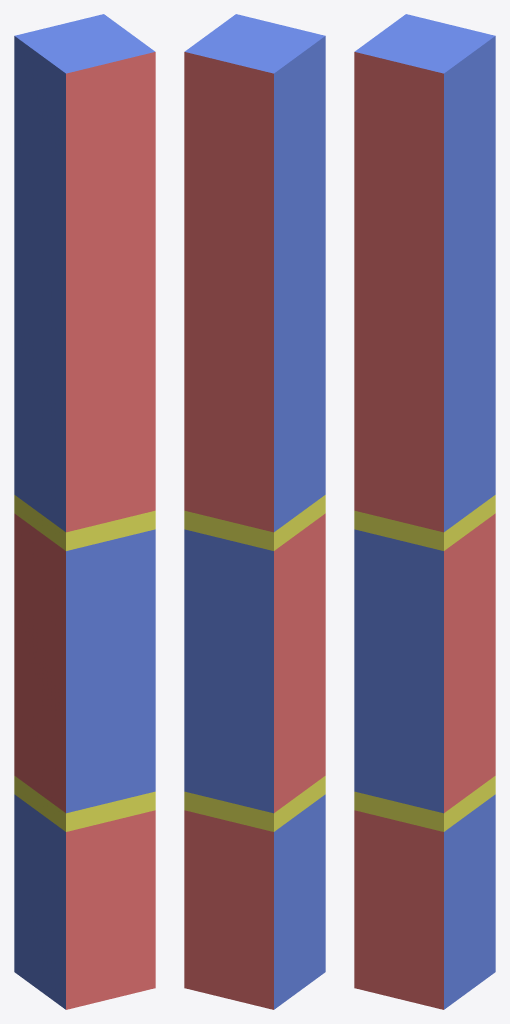
Rendered from with_hadamards_180.dae.
3 views of the same model, side by side, from view 1: azimuth 30°, elevation 25°; view 2: azimuth 150°, elevation 25°; view 3: azimuth 330°, elevation 25° (orthographic).
Parts seen in each view (by area): view 1: zxz (×6), xzoh (×5), zxoh (×5), zxo (×2), xzx (×2); view 2: zxz (×6), xzoh (×5), zxoh (×5), zxo (×2), xzx (×2); view 3: zxz (×6), xzoh (×5), zxoh (×5), zxo (×2), xzx (×2).
Boxes of the visible parts, x1,y1,x2,y2 form: zxz (×6): (14,14,155,1009); xzoh (×5): (14,691,155,916); zxoh (×5): (14,410,155,635); zxo (×2): (14,129,155,354); xzx (×2): (14,598,155,728); zxz (×6): (184,14,325,1009); xzoh (×5): (184,691,325,916); zxoh (×5): (184,410,325,635); zxo (×2): (184,129,325,354); xzx (×2): (184,598,325,728); zxz (×6): (354,14,495,1009); xzoh (×5): (354,691,495,916); zxoh (×5): (354,410,495,635); zxo (×2): (354,129,495,354); xzx (×2): (354,598,495,728).
Bounding box in the file's own units: 1 × 1 × 10.
